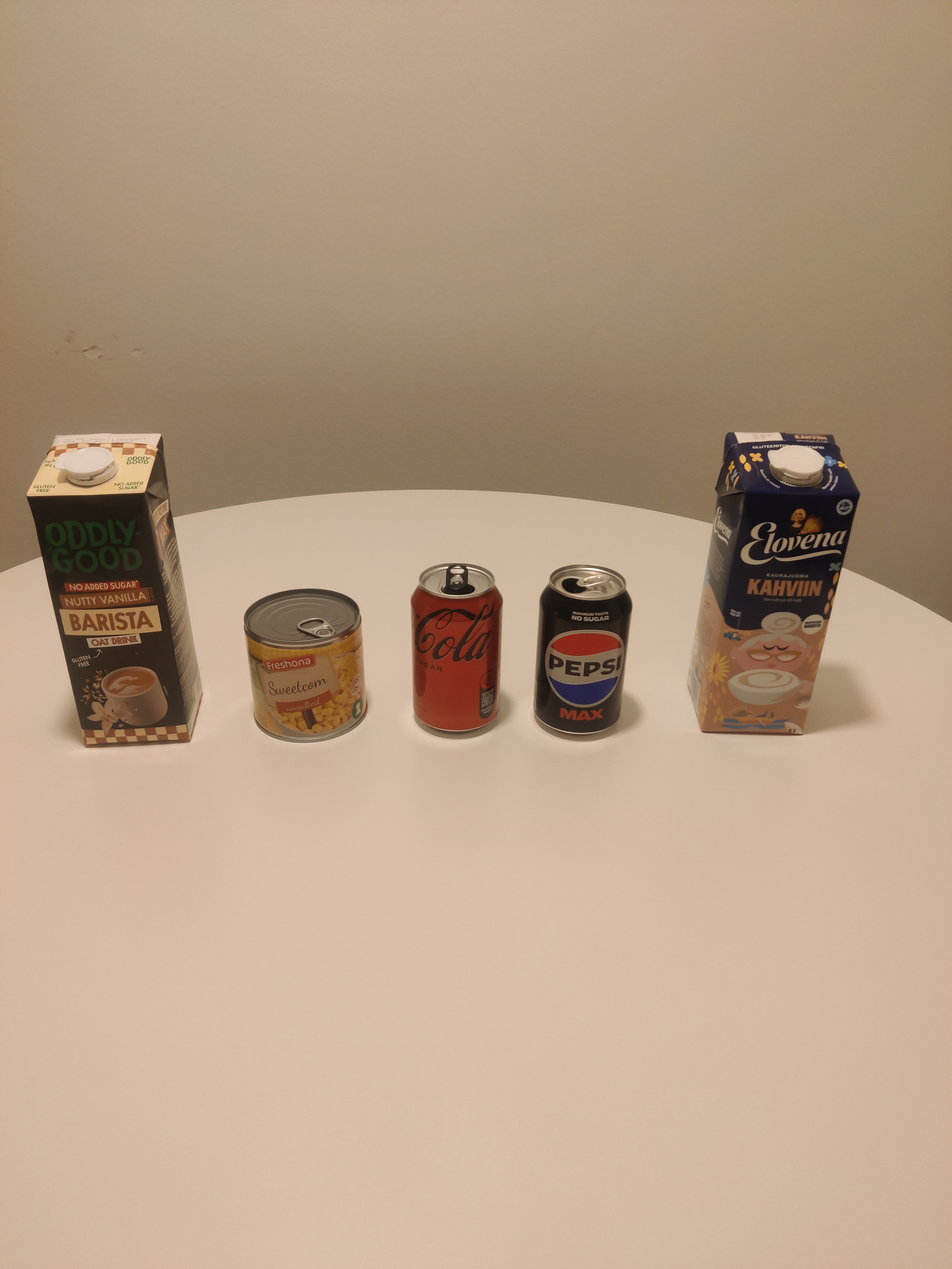Dryckeskartong: (23, 434, 212, 749), (685, 430, 865, 739)
Konservburk: (240, 586, 378, 772)
Pantburk: (534, 563, 632, 741), (411, 560, 503, 734)
